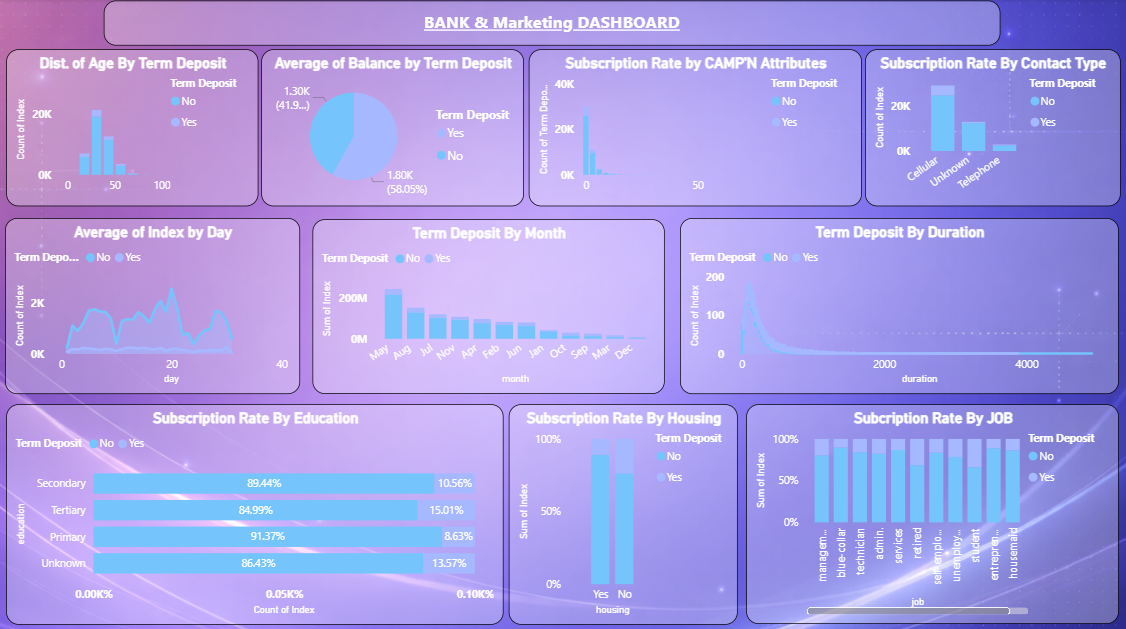

The dashboard page shown, as its layout file describes it:
{"tool":"powerbi","page":{"name":"Page 1","canvas":[1280,720],"ordinal":0},"visuals":[{"type":"columnChart","title":"Dist. of Age By Term Deposit","fields":{"Category":["bank-full.age (bins)"],"Y":["CountNonNull(bank-full.Index)"],"Series":["bank-full.Term Deposit"]},"box":[7.3,58.3,286.7,178.3],"z":0},{"type":"pieChart","title":"Average of Balance by Term Deposit","fields":{"Y":["Avg(bank-full.balance)"],"Category":["bank-full.Term Deposit"]},"box":[297.3,58.3,298.3,178.3],"z":1000},{"type":"columnChart","title":"Subscription Rate by CAMP''N Attributes","fields":{"Category":["bank-full.campaign (bins)"],"Series":["bank-full.Term Deposit"],"Y":["CountNonNull(bank-full.Term Deposit)"]},"box":[600.7,58.3,378.3,178.3],"z":2000},{"type":"columnChart","title":"Subscription Rate By Contact Type","fields":{"Category":["bank-full.contact"],"Y":["CountNonNull(bank-full.Index)"],"Series":["bank-full.Term Deposit"]},"box":[982.3,58.3,290,178.3],"z":3000},{"type":"areaChart","title":"Average of Index by Day","fields":{"Category":["bank-full.day"],"Y":["CountNonNull(bank-full.Index)"],"Series":["bank-full.Term Deposit"]},"box":[6.1,250,335,200],"z":4000},{"type":"lineStackedColumnComboChart","title":"Term Deposit By Month","fields":{"Series":["bank-full.Term Deposit"],"Y":["Sum(bank-full.Index)"],"Category":["bank-full.month"]},"box":[354.4,251.7,400,198.3],"z":5000},{"type":"stackedAreaChart","title":"Term Deposit By Duration","fields":{"Category":["bank-full.duration"],"Y":["CountNonNull(bank-full.Index)"],"Series":["bank-full.Term Deposit"]},"box":[772.8,250,498.3,200],"z":6000},{"type":"textbox","box":[117.8,2.5,1018.4,51.5],"z":7000},{"type":"hundredPercentStackedBarChart","title":"Subscription Rate By Education","fields":{"Y":["CountNonNull(bank-full.Index)"],"Category":["bank-full.education"],"Series":["bank-full.Term Deposit"]},"box":[7.3,461.7,565,250],"z":8000},{"type":"hundredPercentStackedColumnChart","title":"Subscription Rate By Housing","fields":{"Category":["bank-full.housing"],"Y":["Sum(bank-full.Index)"],"Series":["bank-full.Term Deposit"]},"box":[577.3,461.7,260,250],"z":9000},{"type":"hundredPercentStackedColumnChart","title":"Subcription Rate By JOB","fields":{"Category":["bank-full.job"],"Y":["Sum(bank-full.Index)"],"Series":["bank-full.Term Deposit"]},"box":[848.1,462.1,423.5,249.7],"z":10000}]}

Visuals, with their boxes in screenshot pixels (x1, y1, x2, y2), scaled from the page's 1280x720 canvas onto the 1126x629 screenshot:
"Dist. of Age By Term Deposit" columnChart: <box>6,51,259,207</box>
"Average of Balance by Term Deposit" pieChart: <box>262,51,524,207</box>
"Subscription Rate by CAMP''N Attributes" columnChart: <box>528,51,861,207</box>
"Subscription Rate By Contact Type" columnChart: <box>864,51,1119,207</box>
"Average of Index by Day" areaChart: <box>5,218,300,393</box>
"Term Deposit By Month" lineStackedColumnComboChart: <box>312,220,664,393</box>
"Term Deposit By Duration" stackedAreaChart: <box>680,218,1118,393</box>
textbox: <box>104,2,1000,47</box>
"Subscription Rate By Education" hundredPercentStackedBarChart: <box>6,403,503,622</box>
"Subscription Rate By Housing" hundredPercentStackedColumnChart: <box>508,403,737,622</box>
"Subcription Rate By JOB" hundredPercentStackedColumnChart: <box>746,404,1119,622</box>
